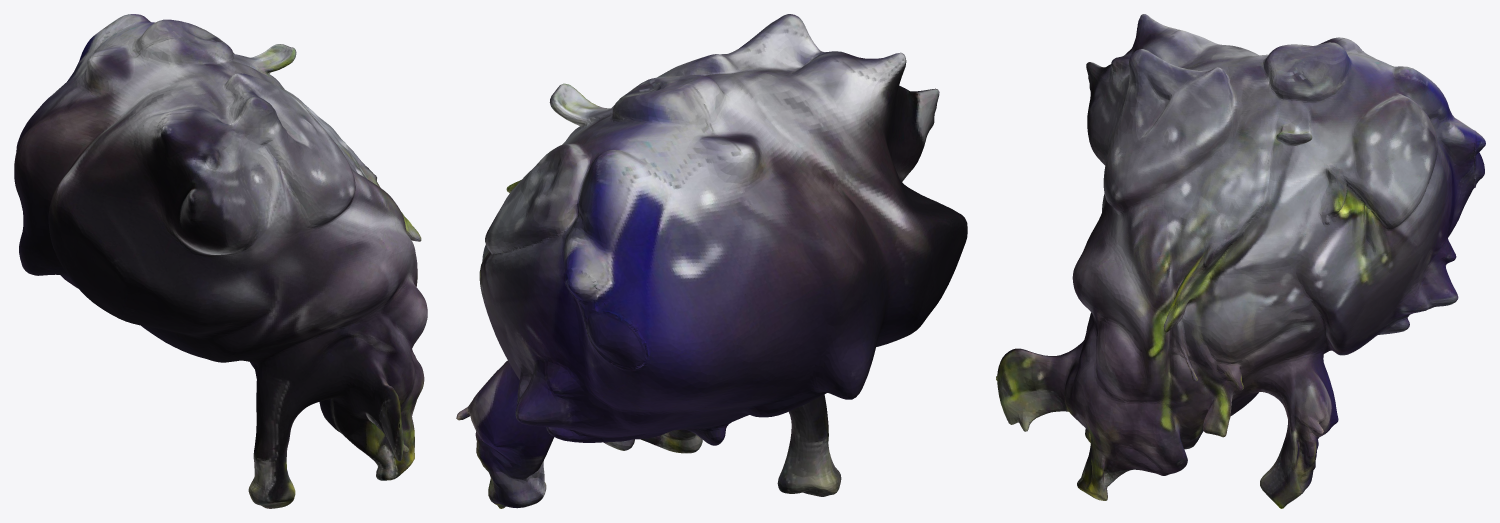
Rendered from fossilized_megastomach.glb.
The picture shows the model from 3 angles, left to right: view 1: azimuth 30°, elevation 25°; view 2: azimuth 150°, elevation 25°; view 3: azimuth 270°, elevation 25°; orthographic projection. The views are drawn at different scales.
Bounding box in the file's own units: 1.57 × 1.81 × 2.
1 material, 1 textured.
